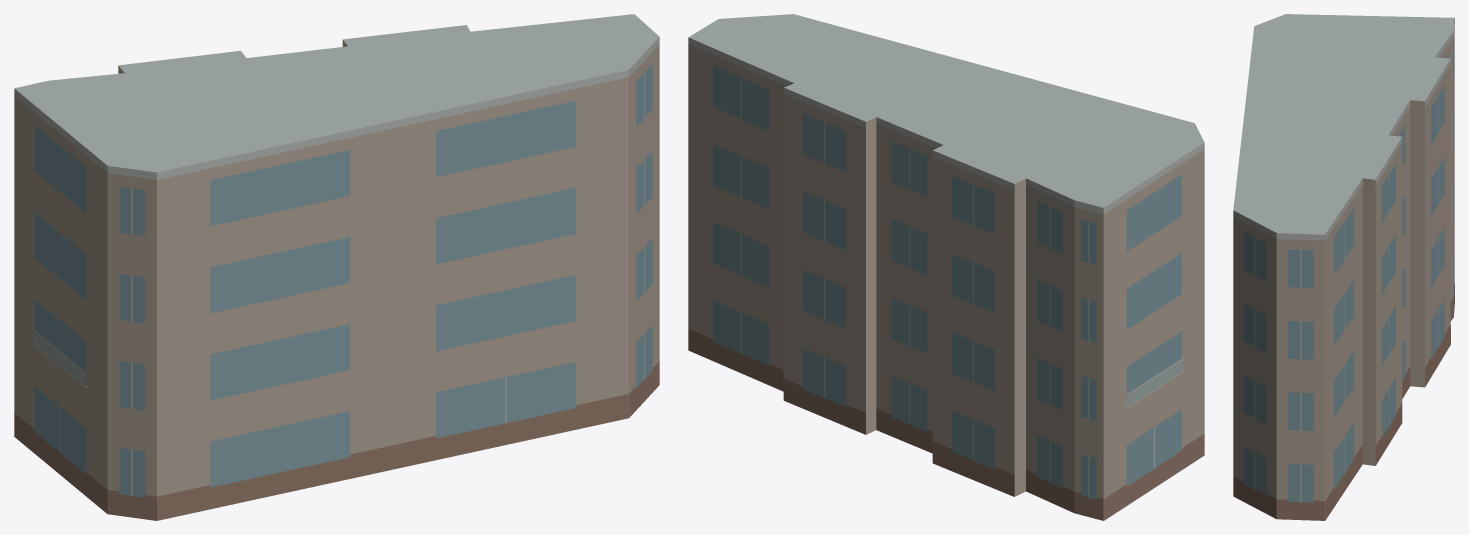
Rendered from survey-upis-32584989.glb.
The picture shows the model from 3 angles, left to right: view 1: azimuth 30°, elevation 25°; view 2: azimuth 150°, elevation 25°; view 3: azimuth 270°, elevation 25°; orthographic projection. The views are drawn at different scales.
Visible parts, largest first — view 1: survey-upis-32584989.tmp; view 2: survey-upis-32584989.tmp; view 3: survey-upis-32584989.tmp.
Boxes of the visible parts, <box> form: survey-upis-32584989.tmp: <box>14,14,659,520</box>; survey-upis-32584989.tmp: <box>688,14,1204,520</box>; survey-upis-32584989.tmp: <box>1233,14,1454,520</box>.
Size of the model in its own units: 19.12 by 11.55 by 8.11.
